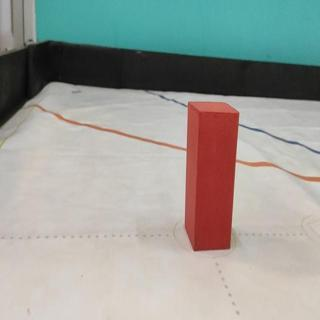redbox: (185, 100, 240, 252)
